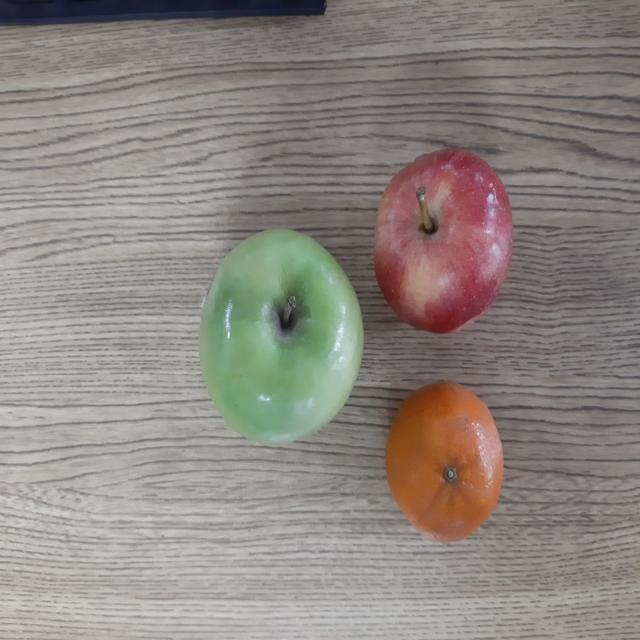Apel Gala: (372, 146, 518, 336)
Apel Granny Smith: (196, 219, 369, 448)
Jeruk Mandarin: (384, 377, 504, 548)
